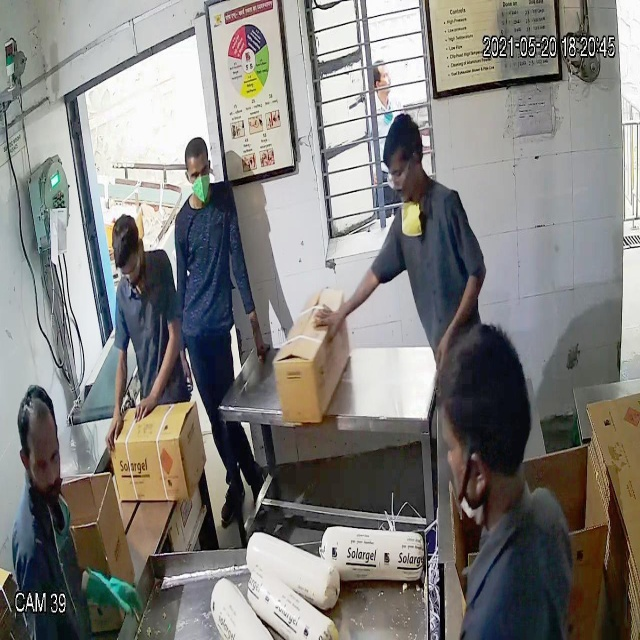Gafas: (383, 162, 418, 191)
Sin_gafas: (18, 444, 65, 479), (183, 159, 214, 182)
